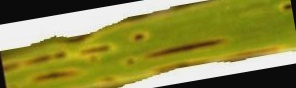Bacterial_Leaf_Blight: (26, 63, 90, 84), (2, 52, 116, 61), (144, 42, 230, 50), (123, 26, 158, 43), (279, 0, 292, 16), (124, 53, 134, 65)
